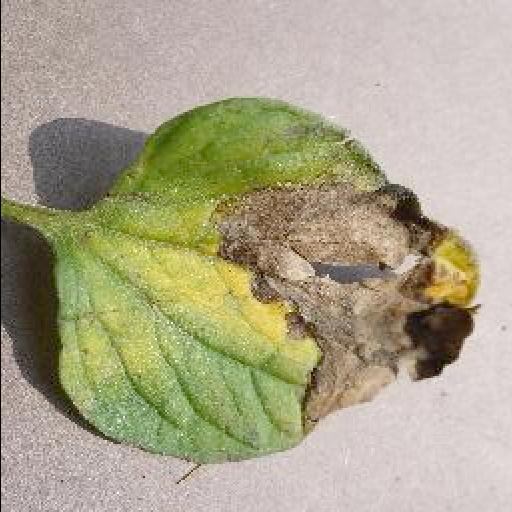disease_tomato: (44, 100, 482, 470)
